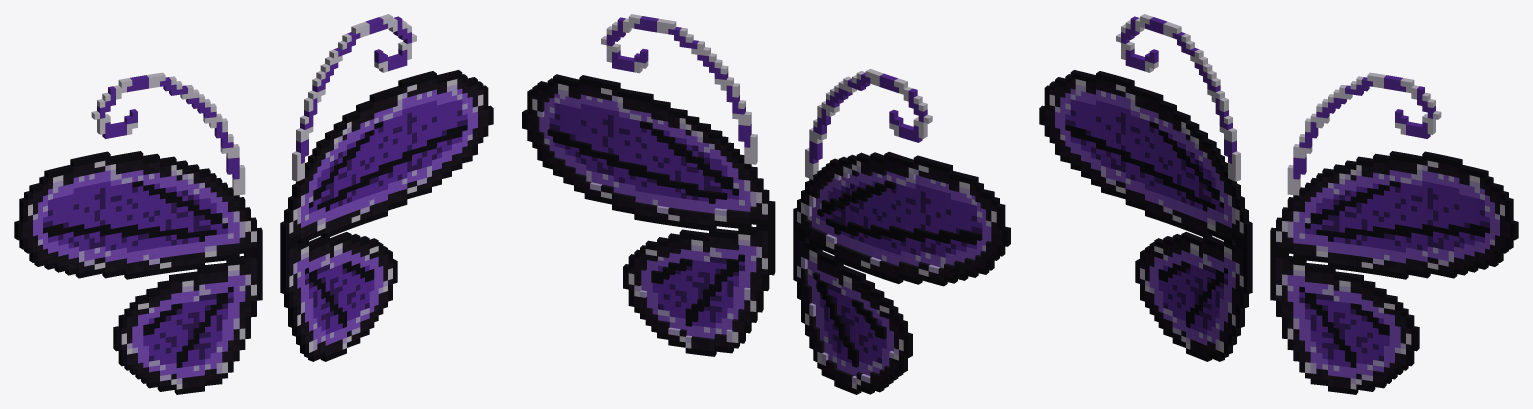
The model's file is void_butterfly_wings.glb.
3 renders of one model, left to right at view 1: azimuth 30°, elevation 25°; view 2: azimuth 150°, elevation 25°; view 3: azimuth 330°, elevation 25°, orthographic.
Visible parts, largest first — view 1: Feathers.L, Feathers.R; view 2: Feathers.R, Feathers.L; view 3: Feathers.R, Feathers.L.
Part boxes in pixels (x1,y1,x2,y2): Feathers.L: (14, 72, 262, 394); Feathers.R: (280, 14, 493, 361); Feathers.R: (522, 14, 775, 356); Feathers.L: (793, 69, 1010, 394); Feathers.R: (1270, 72, 1518, 394); Feathers.L: (1039, 14, 1252, 361).
Bounding box in the file's own units: 2.91 × 1.88 × 0.2385.
